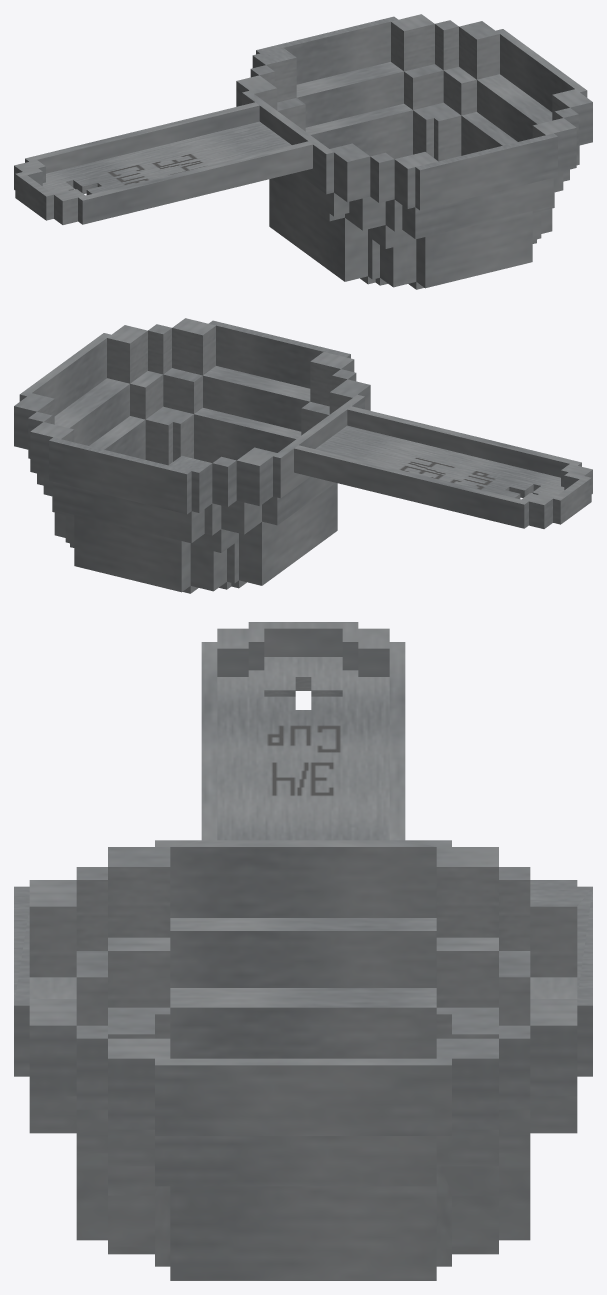
The model's file is Cup_3Fourths.fbx.
3 renders of one model, top to bottom at view 1: azimuth 30°, elevation 25°; view 2: azimuth 150°, elevation 25°; view 3: azimuth 270°, elevation 25°, orthographic. The views are drawn at different scales.
Visible parts, largest first — view 1: Polygon; view 2: Polygon; view 3: Polygon.
Part boxes in pixels (x1=…): Polygon: x1=14, y1=14, x2=592, y2=289; Polygon: x1=14, y1=318, x2=592, y2=593; Polygon: x1=14, y1=622, x2=592, y2=1280.
Size of the model in its own units: 6.7 by 1.8 by 3.7.
2 materials, 2 textured.
